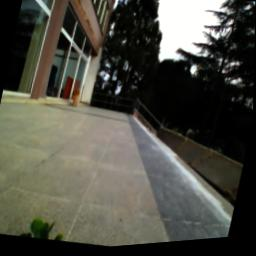herb: (21, 214, 73, 247)
